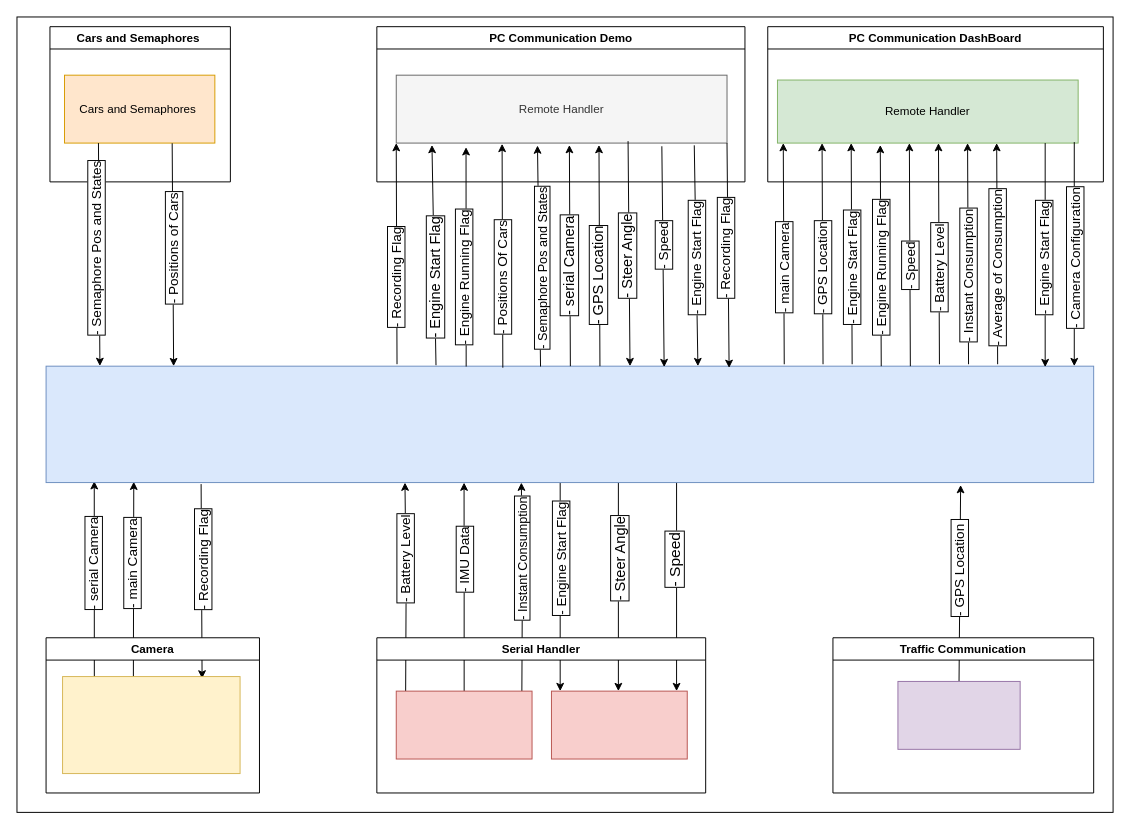
This 1130x829 diagram has some shape labels left out. The shapes that lost their labels are listed below. From the top down, each one's centre as x and y in pixels, then its label:
the point at 569,424: GATEWAY PROCESS
the point at 151,725: Camera Thread
the point at 463,724: Serial Handler Read
the point at 618,724: Serial Handler Write
the point at 958,714: Traffic Communication Thread
